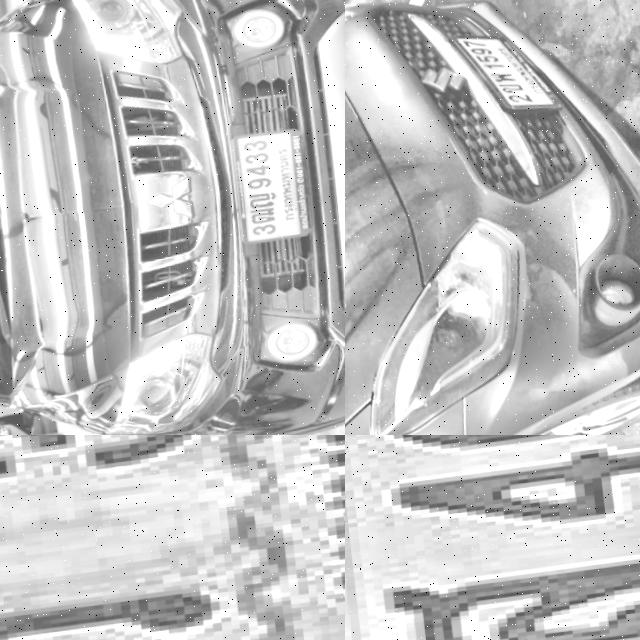license-plate: (0, 435, 345, 640), (345, 435, 640, 640), (444, 22, 562, 123), (224, 131, 313, 249)
